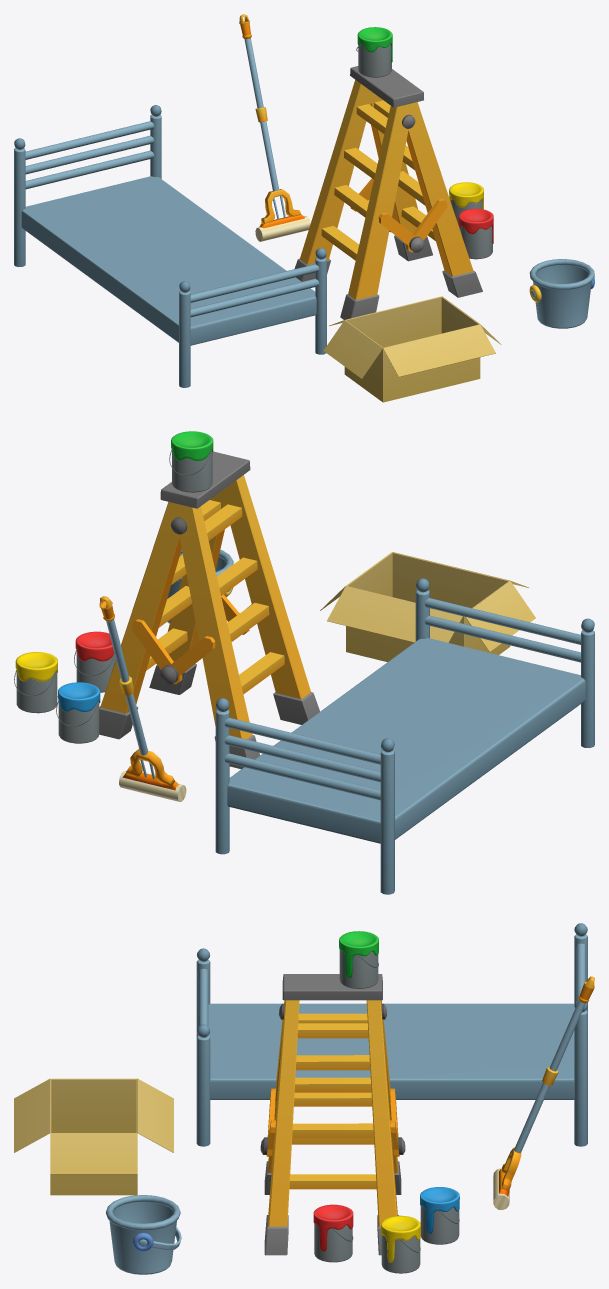
Rendered from old_furniture.fbx.
3 views of the same model, one above another, from view 1: azimuth 30°, elevation 25°; view 2: azimuth 150°, elevation 25°; view 3: azimuth 270°, elevation 25° (orthographic). The views are drawn at different scales.
Parts seen in each view (by area): view 1: bed_old, ladder, pasted__polySurface127, bucket, pasted__polySurface126, mop, pasted__polySurface128, paint_bucket1, paint_bucket, paint_bucket2; view 2: bed_old, ladder, pasted__polySurface127, pasted__polySurface130, mop, paint_bucket3, paint_bucket2, paint_bucket1, paint_bucket, pasted__polySurface128; view 3: bed_old, ladder, pasted__polySurface127, bucket, pasted__polySurface129, mop, paint_bucket1, paint_bucket2, paint_bucket, paint_bucket3, pasted__polySurface126, pasted__polySurface130.
Part boxes in pixels (x1,y1,x2,y2): bed_old: (14, 105, 326, 387); ladder: (294, 66, 482, 319); pasted__polySurface127: (344, 296, 480, 402); bucket: (529, 259, 594, 328); pasted__polySurface126: (383, 324, 495, 376); mop: (239, 14, 310, 241); pasted__polySurface128: (323, 320, 382, 378); paint_bucket1: (356, 27, 392, 77); paint_bucket: (458, 208, 493, 259); paint_bucket2: (449, 182, 483, 225); bed_old: (215, 578, 594, 894); ladder: (99, 451, 319, 769); pasted__polySurface127: (346, 552, 510, 661); pasted__polySurface130: (327, 586, 462, 642); mop: (99, 596, 186, 801); paint_bucket3: (56, 682, 100, 743); paint_bucket2: (14, 652, 57, 713); paint_bucket1: (169, 431, 213, 492); paint_bucket: (74, 631, 115, 692); pasted__polySurface128: (465, 581, 535, 651); bed_old: (196, 923, 587, 1146); ladder: (260, 974, 405, 1255); pasted__polySurface127: (50, 1079, 137, 1195); bucket: (106, 1195, 181, 1274); pasted__polySurface129: (50, 1133, 137, 1174); mop: (493, 976, 594, 1209); paint_bucket1: (339, 931, 378, 988); paint_bucket2: (381, 1215, 420, 1273); paint_bucket: (313, 1204, 353, 1262); paint_bucket3: (420, 1187, 459, 1244); pasted__polySurface126: (14, 1079, 50, 1152); pasted__polySurface130: (137, 1079, 173, 1152).
Bounding box in the file's own units: 17.23 × 10.33 × 19.51.
